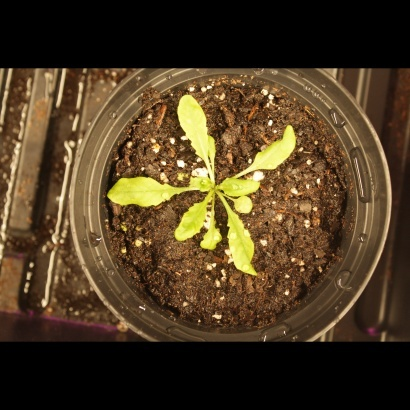leaf: (99, 170, 178, 215), (171, 88, 215, 160), (248, 121, 302, 175), (226, 209, 260, 278), (172, 196, 211, 244), (221, 171, 266, 200), (196, 222, 225, 251), (201, 131, 224, 158), (234, 191, 258, 216)
